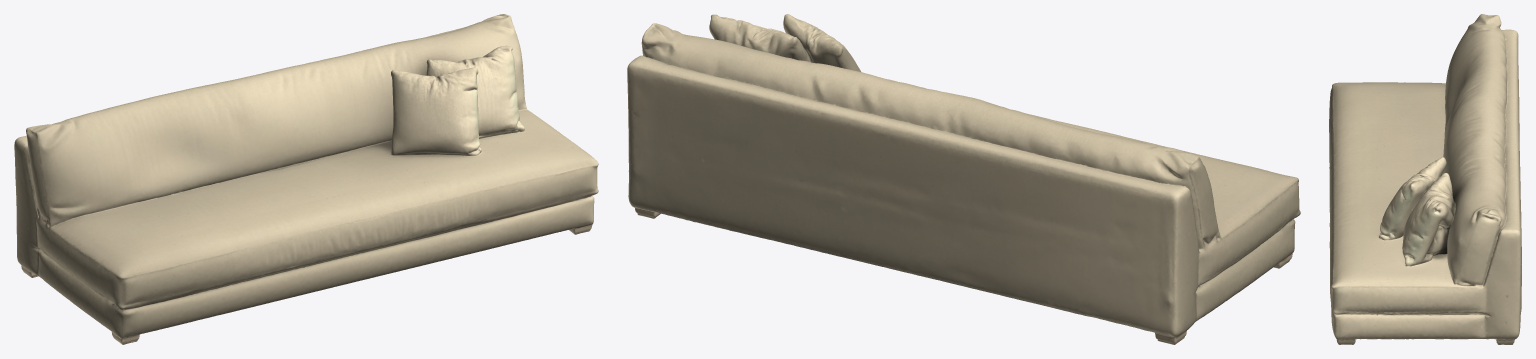
File: sofa-min-1.glb
3 renders of one model, left to right at view 1: azimuth 30°, elevation 25°; view 2: azimuth 150°, elevation 25°; view 3: azimuth 270°, elevation 25°, orthographic. The views are drawn at different scales.
Parts seen in each view (by area): view 1: Forma_Upholstery_0; view 2: Forma_Upholstery_0; view 3: Forma_Upholstery_0.
Boxes of the visible parts, x1,y1,x2,y2 form: Forma_Upholstery_0: [14, 14, 598, 344]; Forma_Upholstery_0: [627, 14, 1300, 344]; Forma_Upholstery_0: [1329, 14, 1521, 344].
Bounding box in the file's own units: 2.1 × 0.6395 × 0.8292.
3 materials, 3 textured.
